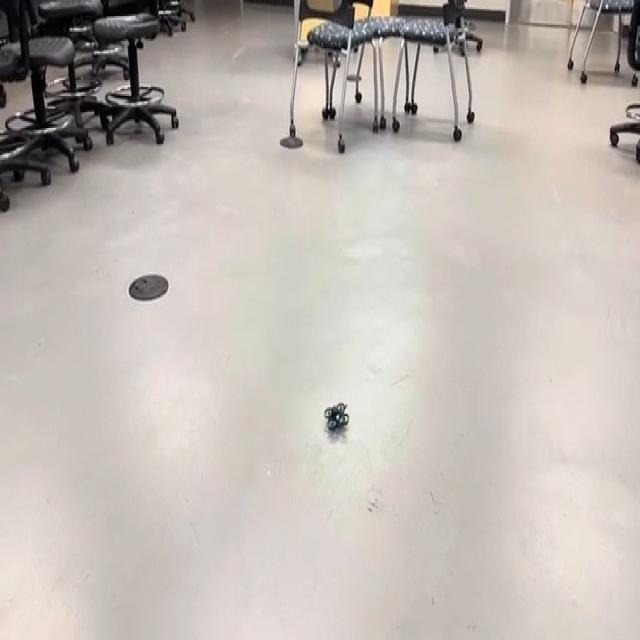drone: (316, 388, 356, 445)
